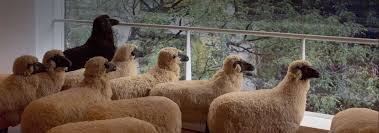sheep: (149, 54, 255, 132), (208, 60, 321, 133), (23, 57, 116, 133), (4, 49, 73, 133), (110, 45, 190, 102), (58, 14, 121, 70)
